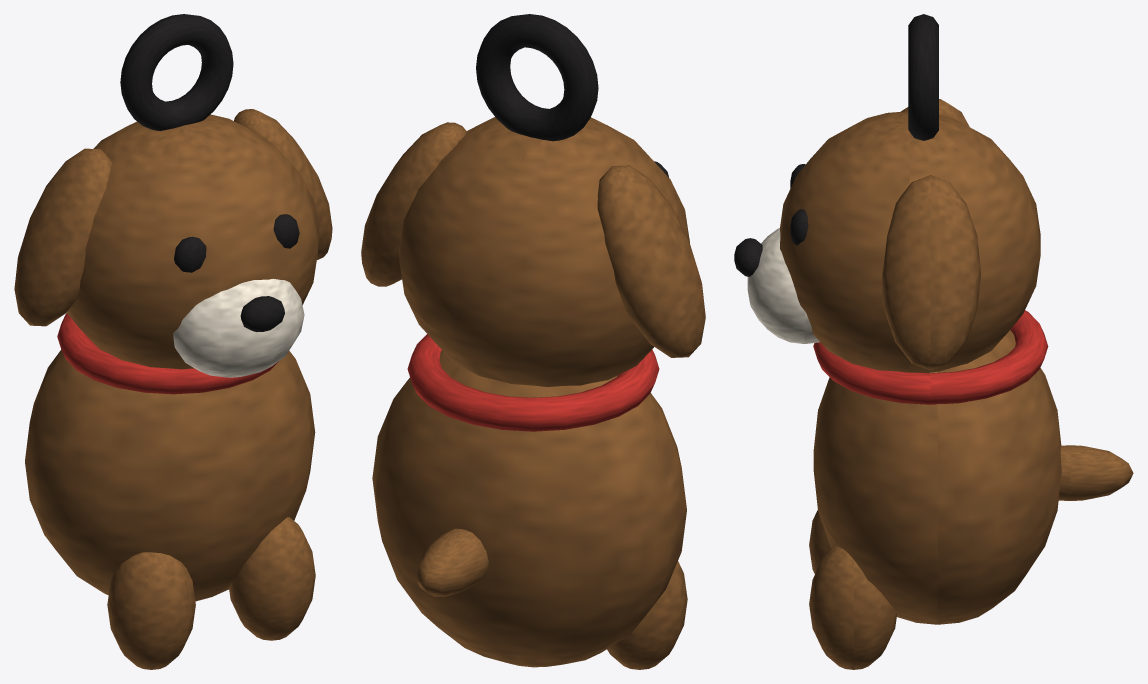
3 renders of one model, left to right at view 1: azimuth 30°, elevation 25°; view 2: azimuth 150°, elevation 25°; view 3: azimuth 270°, elevation 25°, orthographic. The views are drawn at different scales.
Parts seen in each view (by area): view 1: figurine; view 2: figurine; view 3: figurine.
Part boxes in pixels (x1=…): figurine: x1=14, y1=14, x2=332, y2=669; figurine: x1=361, y1=14, x2=705, y2=669; figurine: x1=734, y1=14, x2=1133, y2=669.
Size of the model in its own units: 25.52 by 48.75 by 28.54.
Materials: 1 (1 with a texture image).
